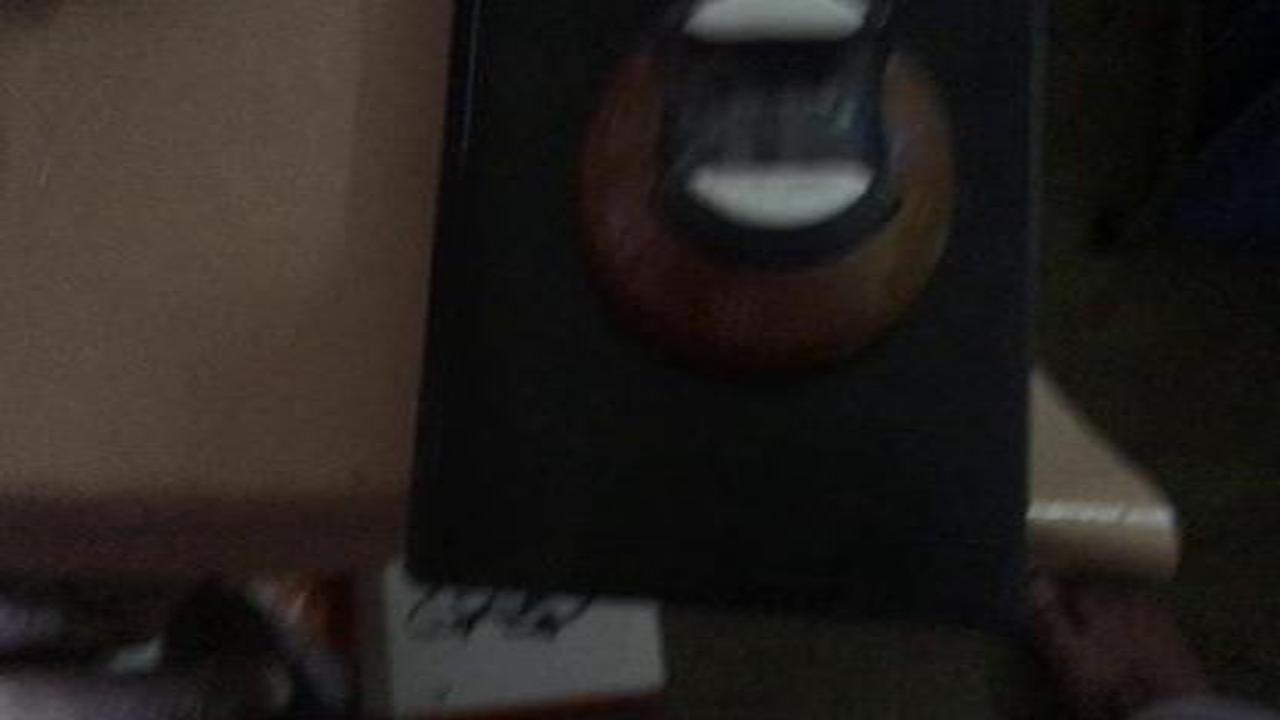insulator_pin: (536, 2, 970, 381)
